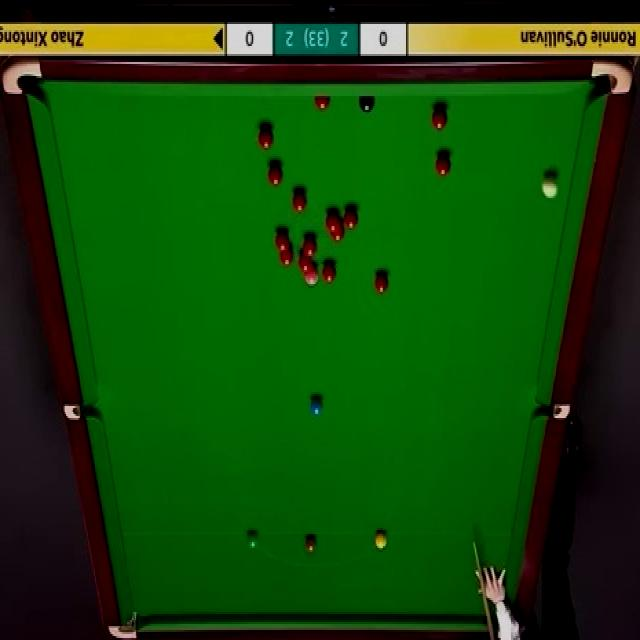black-ball: (358, 96, 374, 112)
blue-ball: (310, 398, 324, 415)
brown-ball: (305, 534, 316, 552)
green-ball: (245, 530, 260, 552)
pink-ball: (304, 266, 319, 286)
red-ball: (267, 163, 284, 188), (298, 250, 315, 274), (431, 106, 448, 129), (292, 189, 308, 213), (434, 156, 452, 177), (258, 126, 273, 150), (321, 262, 339, 282), (344, 207, 359, 231), (374, 274, 389, 297), (279, 246, 294, 268), (274, 231, 289, 253), (303, 233, 317, 255), (331, 222, 344, 242), (326, 212, 339, 232), (313, 97, 331, 111)
white-ball: (540, 174, 560, 196)
yellow-ball: (375, 530, 387, 550)
